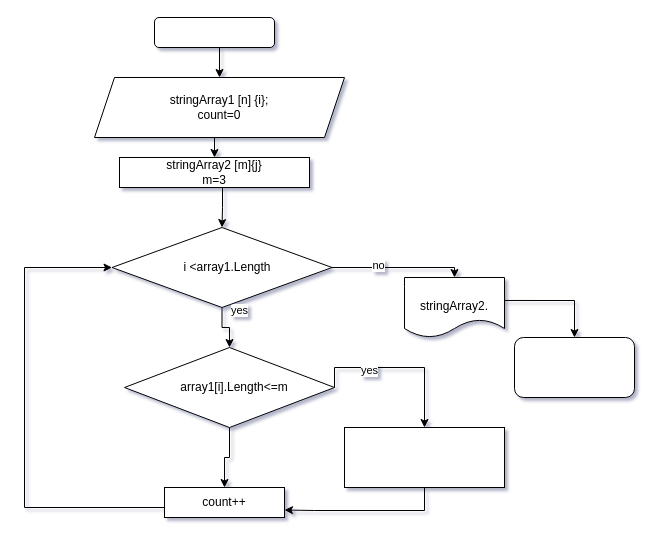
Image size: 658x542. Some labels were removed from this diagram. The centre of each missing label's shape, as x and y in pixels:
array2[j]=array1[i]: (424,457)
start SecondArrayString: (214,32)
конец: (574,367)
